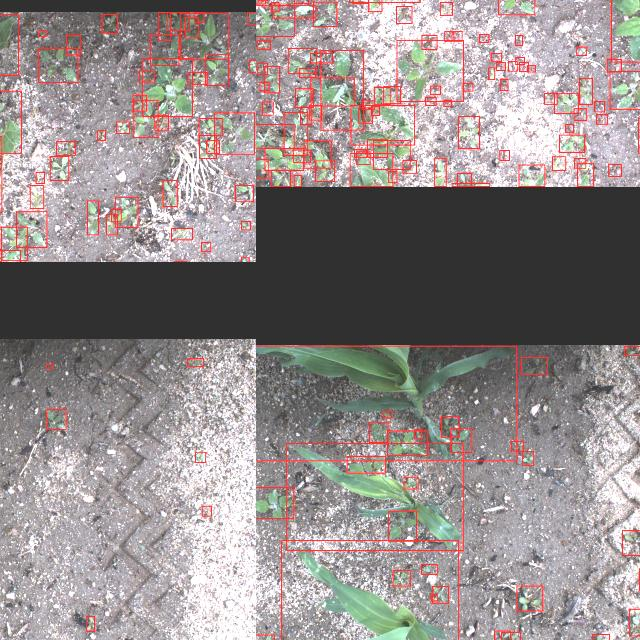crop: (256, 345, 516, 460), (286, 443, 462, 551), (280, 540, 457, 640), (350, 105, 414, 145), (350, 154, 392, 186), (0, 90, 20, 153), (0, 13, 18, 74)
weed: (396, 40, 462, 101), (321, 50, 364, 130), (142, 58, 192, 116), (179, 13, 227, 59), (610, 0, 640, 62), (214, 112, 254, 154), (37, 48, 77, 82), (311, 78, 354, 106), (609, 71, 640, 109), (256, 5, 294, 36), (256, 487, 293, 518), (372, 140, 410, 170), (16, 212, 46, 248), (283, 112, 307, 156), (387, 430, 427, 456), (256, 124, 293, 148), (0, 227, 26, 261), (264, 148, 304, 170), (133, 100, 157, 136), (150, 34, 178, 64), (388, 511, 416, 541), (287, 48, 315, 74), (205, 54, 228, 85), (458, 116, 478, 150), (304, 142, 330, 168), (115, 197, 137, 227), (516, 586, 542, 610), (346, 456, 384, 472), (312, 1, 336, 26), (518, 165, 544, 187), (271, 5, 315, 18), (498, 0, 534, 14), (451, 428, 472, 452), (554, 94, 578, 114), (521, 356, 547, 374), (622, 530, 640, 555), (314, 160, 334, 182), (50, 156, 68, 180), (198, 118, 222, 136), (558, 136, 584, 152), (86, 201, 98, 235), (46, 409, 66, 429), (368, 422, 388, 442), (167, 12, 189, 30), (198, 136, 216, 158), (264, 66, 278, 94), (577, 163, 593, 187), (162, 180, 176, 206), (578, 78, 592, 104), (367, 140, 387, 158), (440, 416, 458, 436), (295, 89, 313, 108), (158, 12, 170, 40), (434, 158, 446, 186), (382, 86, 400, 104), (628, 609, 640, 636), (270, 171, 290, 187), (29, 186, 43, 208), (101, 13, 117, 32), (235, 186, 253, 202), (395, 6, 411, 24), (373, 87, 389, 105), (432, 586, 448, 604), (392, 570, 410, 586), (66, 34, 80, 54), (170, 228, 192, 240), (185, 17, 198, 37), (56, 141, 74, 155), (105, 214, 116, 236), (292, 150, 310, 163), (0, 250, 19, 262), (132, 95, 146, 111), (154, 114, 168, 130), (358, 108, 372, 124), (310, 53, 332, 63), (188, 72, 206, 84), (256, 159, 267, 178), (606, 58, 620, 72), (551, 157, 565, 171), (422, 35, 436, 49), (138, 70, 154, 82), (402, 160, 416, 173), (206, 140, 218, 154), (457, 174, 471, 186), (439, 2, 451, 16), (309, 106, 321, 120), (356, 152, 370, 164), (521, 451, 533, 465), (403, 477, 417, 489), (300, 108, 310, 124), (299, 68, 315, 78), (624, 345, 640, 355), (421, 564, 437, 574), (115, 121, 128, 133), (368, 0, 381, 12), (500, 632, 519, 640), (574, 109, 586, 121), (608, 165, 620, 177), (494, 631, 510, 640), (111, 208, 121, 222), (256, 40, 270, 50), (544, 94, 556, 105), (510, 441, 522, 452), (262, 102, 272, 115), (187, 358, 203, 366), (86, 616, 94, 632), (34, 172, 44, 184), (573, 158, 585, 168), (362, 100, 374, 110), (594, 101, 604, 112), (247, 12, 256, 24), (591, 634, 608, 640), (193, 12, 203, 22), (200, 242, 210, 252), (576, 46, 586, 56), (596, 114, 606, 124), (451, 31, 461, 41), (444, 31, 454, 41), (518, 62, 528, 72), (257, 64, 267, 74), (499, 151, 509, 161), (195, 452, 205, 462), (499, 79, 507, 91), (354, 149, 366, 157), (388, 172, 397, 182), (491, 53, 502, 61), (293, 176, 301, 187), (249, 60, 256, 72), (240, 222, 250, 230), (97, 130, 105, 140), (478, 34, 488, 42), (514, 35, 522, 45), (508, 61, 516, 71), (270, 2, 278, 12), (462, 83, 472, 91), (429, 86, 439, 94), (425, 98, 435, 106), (202, 506, 210, 516), (451, 184, 489, 186), (565, 125, 573, 134), (488, 68, 494, 80), (371, 106, 379, 115), (496, 62, 504, 70), (260, 82, 268, 90), (414, 429, 421, 438), (514, 58, 524, 64), (240, 256, 248, 262), (38, 30, 46, 36), (527, 66, 535, 72), (352, 0, 368, 3), (443, 100, 451, 106), (383, 411, 391, 417), (293, 0, 308, 3), (430, 595, 436, 601), (256, 0, 264, 4), (46, 364, 52, 368)
